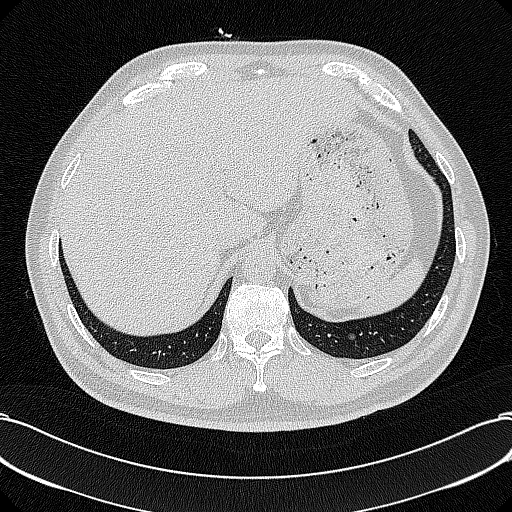nodule: (347, 332, 356, 340)
